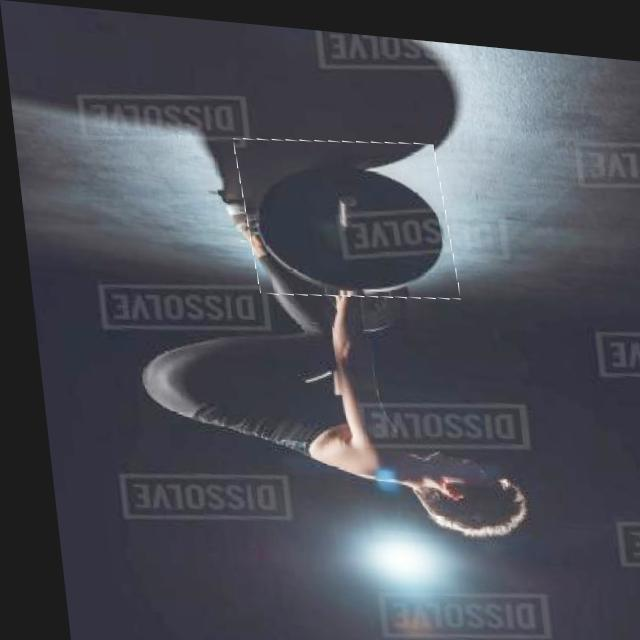barbell: (233, 125, 454, 301)
